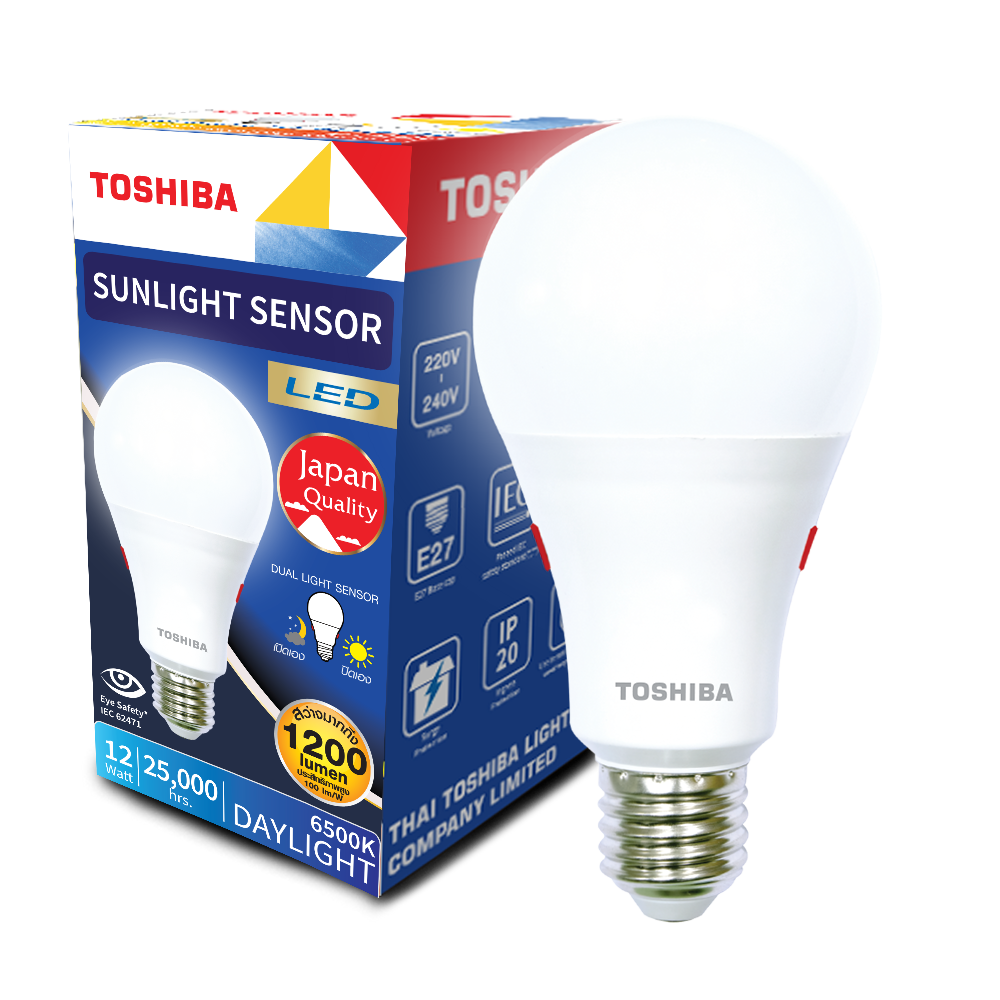Light_bulb: (461, 104, 912, 960)
